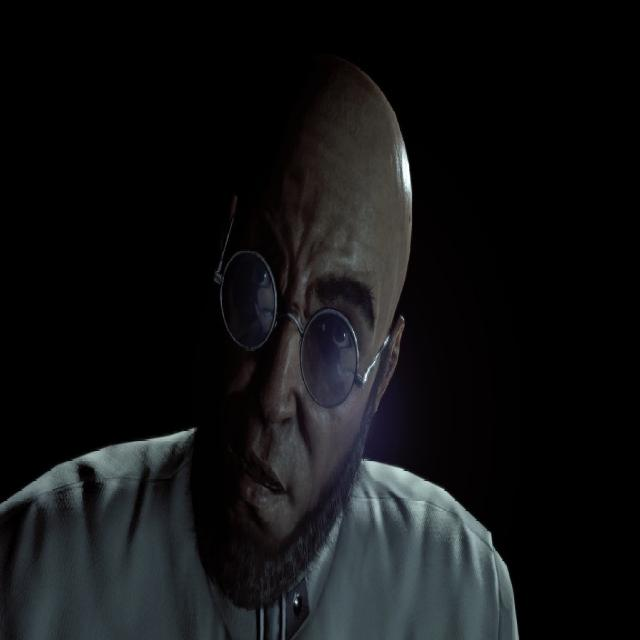Glasses: (210, 206, 392, 408)
